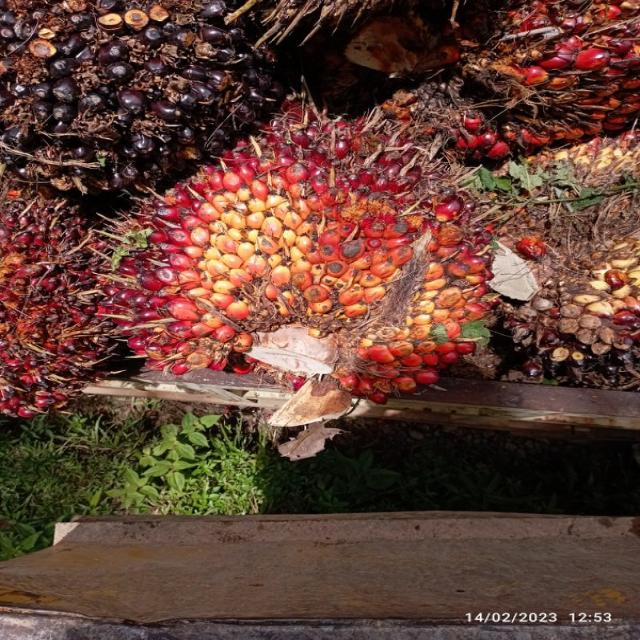fraksi 00: (5, 0, 266, 203)
fraksi 3: (112, 86, 554, 478), (428, 0, 639, 177)
